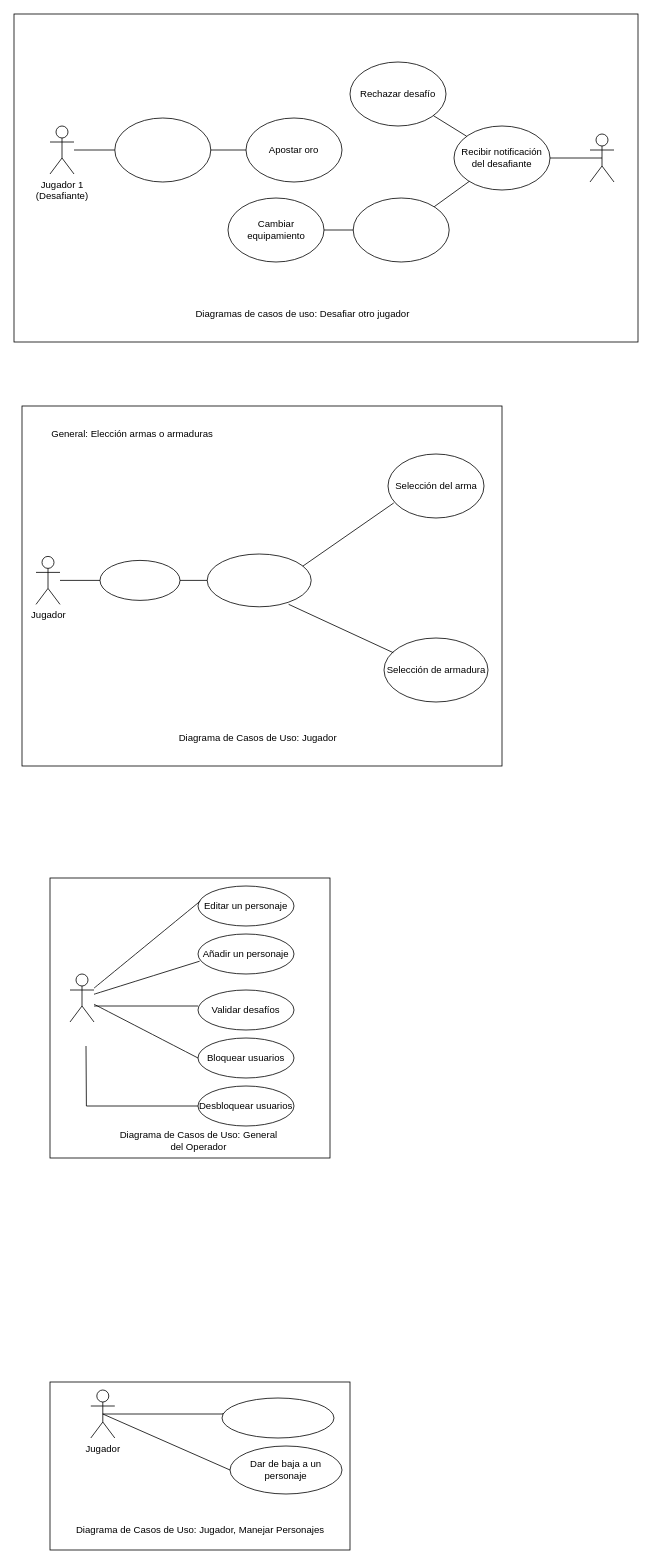
The diagram is 652 pixels wide and 1564 high, and some of its shapes have lost their labels. The shapes that lost their labels are listed below. From the top down, each one's box as (x1, y1, x2, y2) in pixels, then its label:
(114, 117, 211, 182): Desafiar a otros usuarios
(589, 133, 614, 182): Jugador 2 (Desafiado)
(352, 197, 449, 262): Aceptar desafío
(99, 560, 180, 600): Elige tus armas o armaduras
(206, 553, 311, 607): Selección de personaje al que aplicarlo
(69, 973, 94, 1022): Operador
(221, 1397, 334, 1438): Agregar personaje
